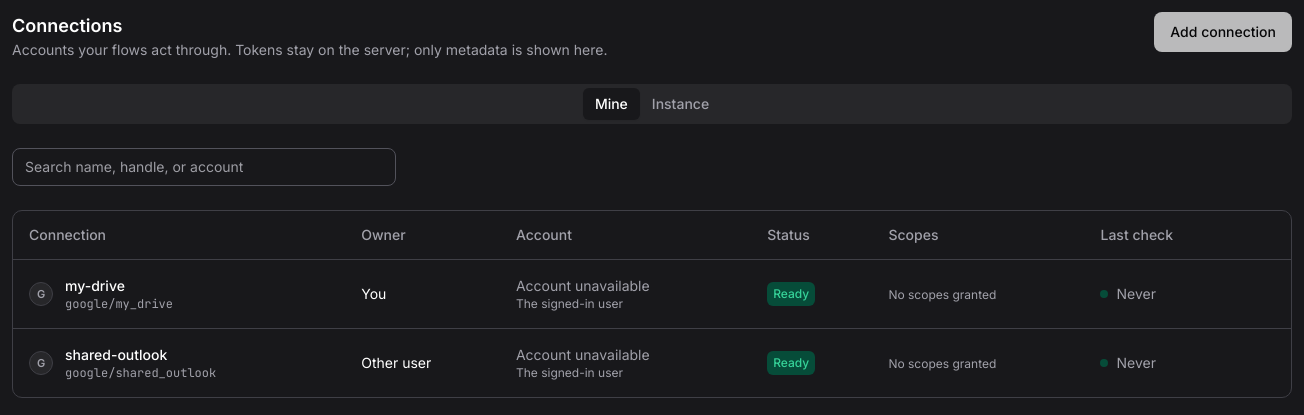
it: ConnectionsPage tabs › gives a regular user no Other users tab and keeps shared rows under Mine
The width and height of the screenshot is (1304, 415).
Check: the text "my-drive" is shown, box [65, 276, 125, 294]
Check: the text "shared-outlook" is shown, box [65, 346, 167, 362]
Click the tab "Instance". click: x=680, y=104
box: [640, 88, 721, 120]
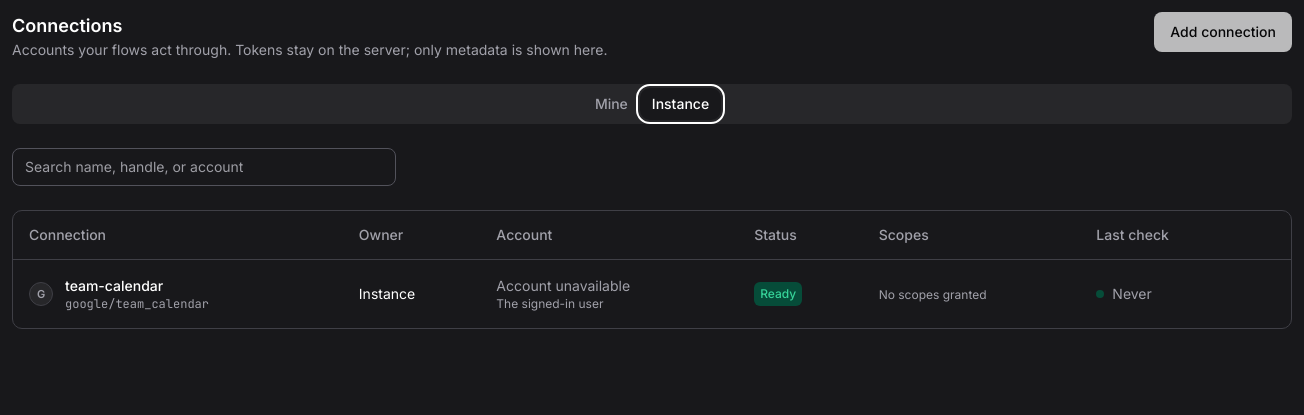
Check: the text "team-calendar" is shown, box [65, 276, 163, 294]
